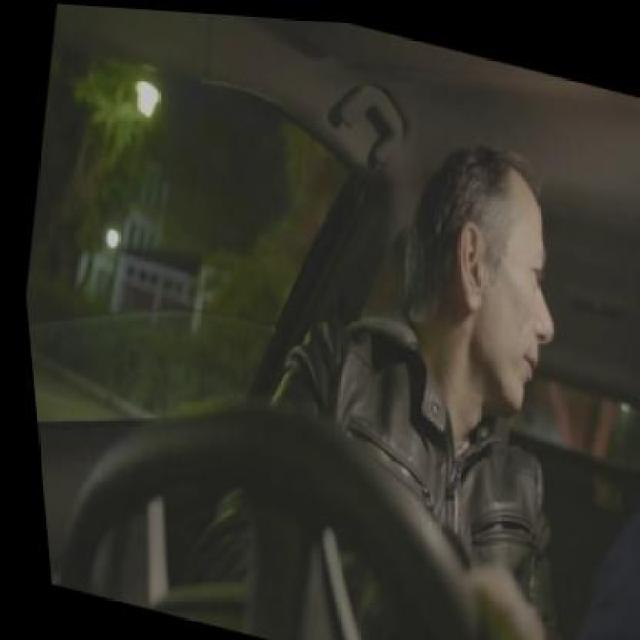Inattentive: (411, 146, 558, 423)
